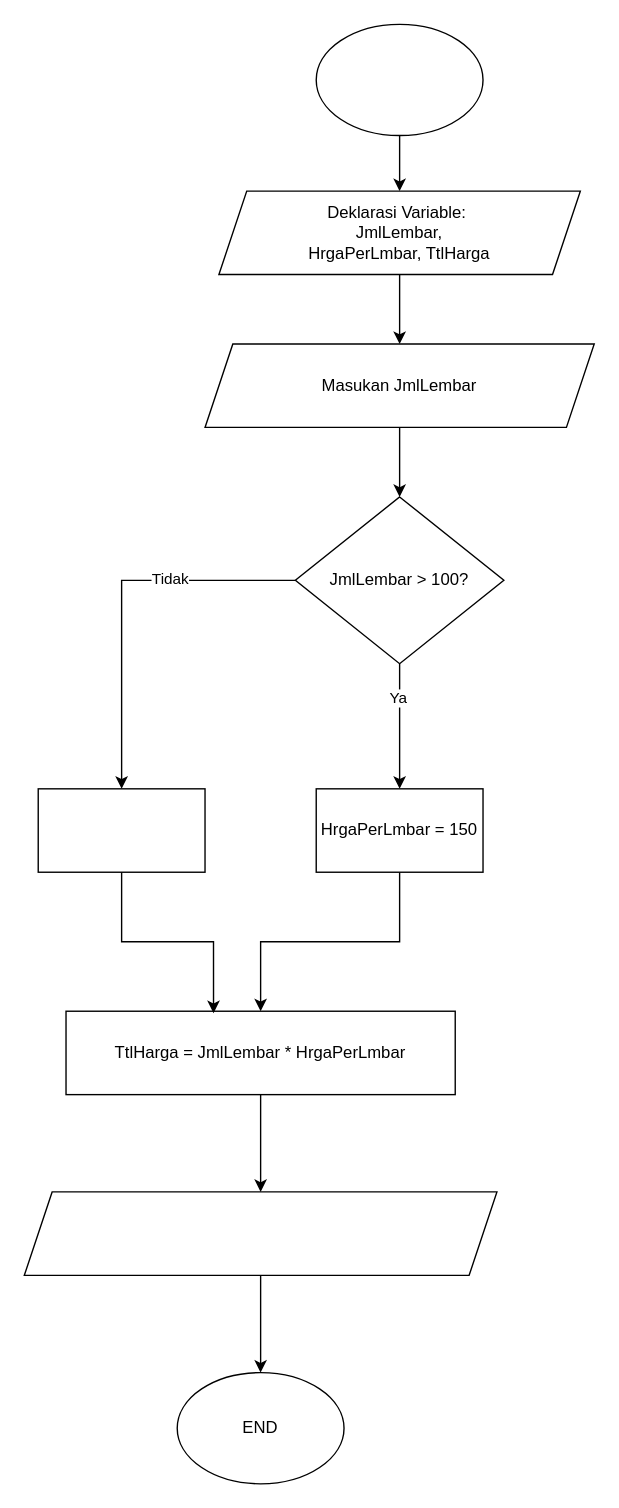
This 619x1508 diagram has some shape labels left out. Here are the shapes that lost their labels. From the top down, the centre of each, then its label:
At [399,79]: "START".
At [121,829]: "HrgaPerLmbar = 200".
At [260,1233]: "Total Harga yg harus dibayar (TtlHrga)".
